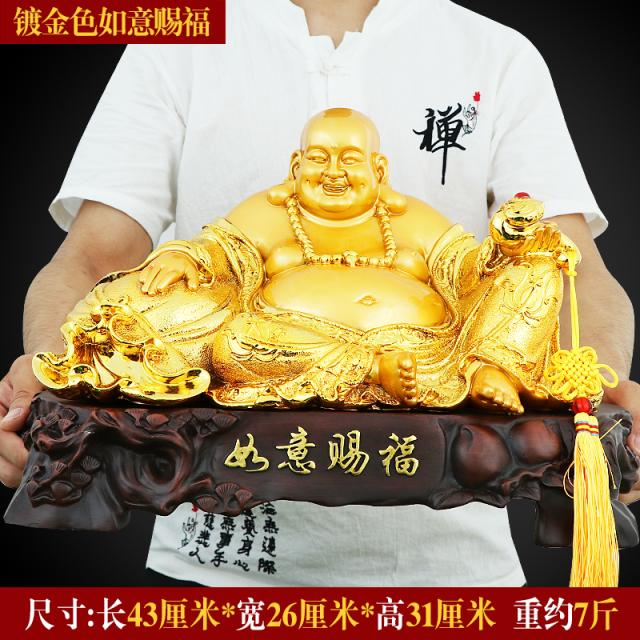Smiling Buddha: (191, 104, 458, 395)
